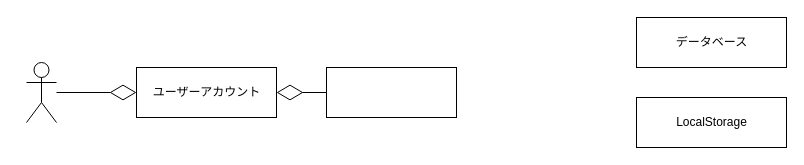
This 804x165 diagram has some shape labels left out. The centre of each missing label's shape, as x and y in pixels:
"ユーザー" goes at pixel 41 92.
"認証トークン" goes at pixel 391 92.
